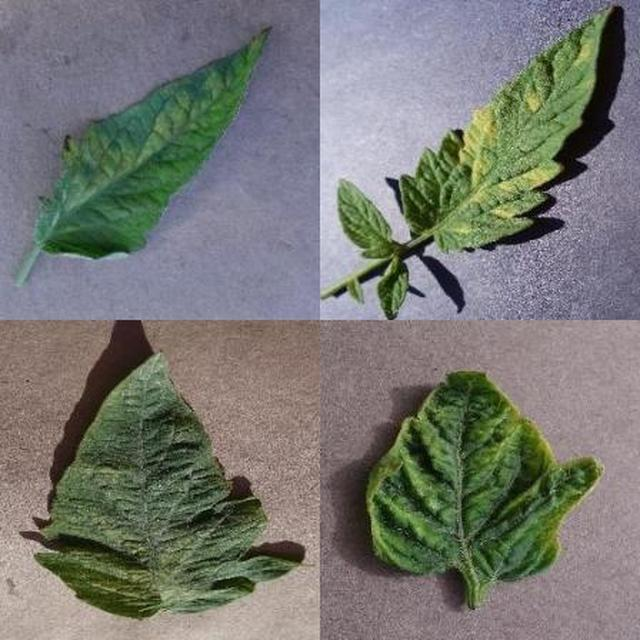Leaf Mold: (218, 185, 640, 640)
